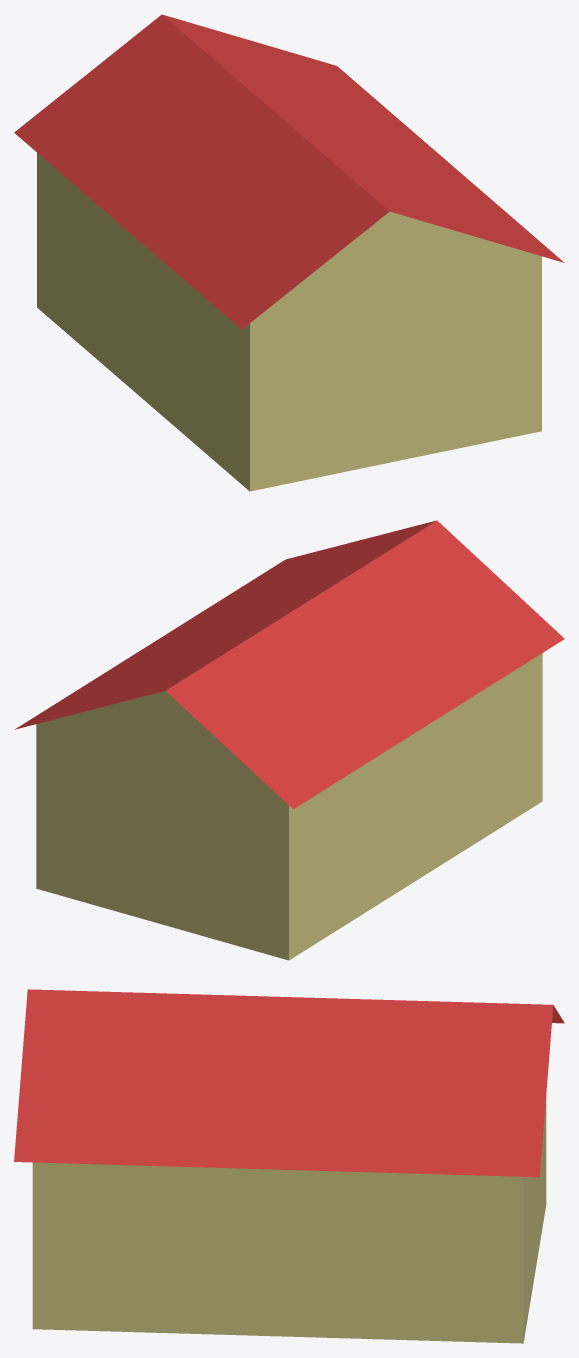
3 renders of one model, top to bottom at view 1: azimuth 30°, elevation 25°; view 2: azimuth 150°, elevation 25°; view 3: azimuth 270°, elevation 25°, orthographic. The views are drawn at different scales.
Size of the model in its own units: 11.49 by 15.81 by 8.33.
